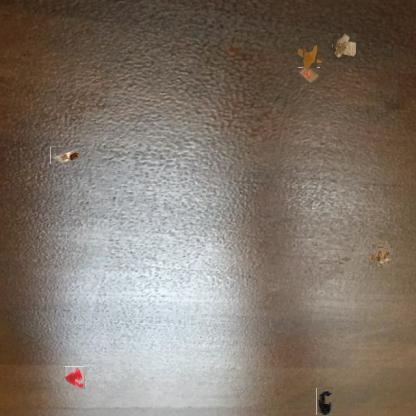dirty: (332, 34, 356, 59), (50, 146, 81, 164), (316, 388, 333, 416), (370, 246, 392, 267), (298, 67, 320, 84)
liquid: (65, 367, 86, 388), (300, 46, 320, 66)
